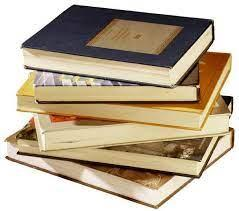book: (8, 49, 235, 205), (20, 3, 211, 83)
